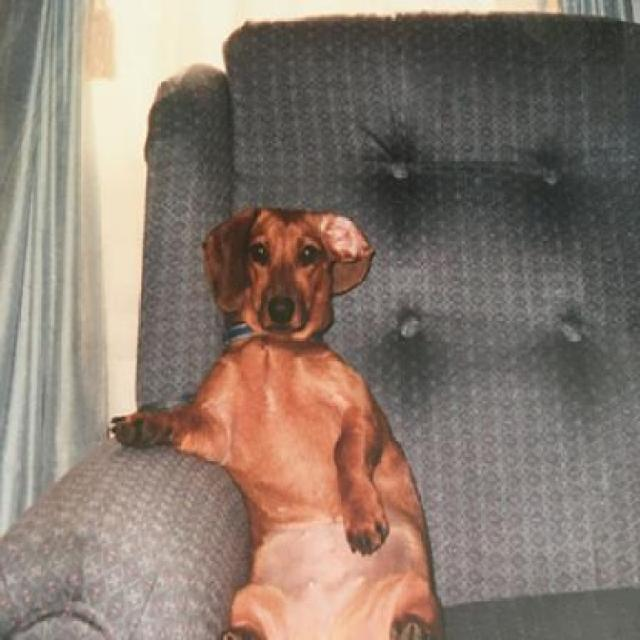Dog: (105, 204, 446, 638)
